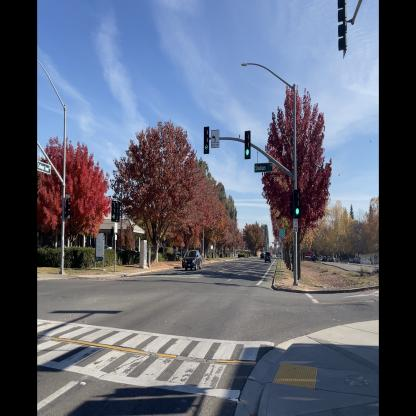green: (293, 187, 302, 220), (244, 129, 251, 161)
left-green: (203, 125, 210, 155), (111, 199, 117, 224)
